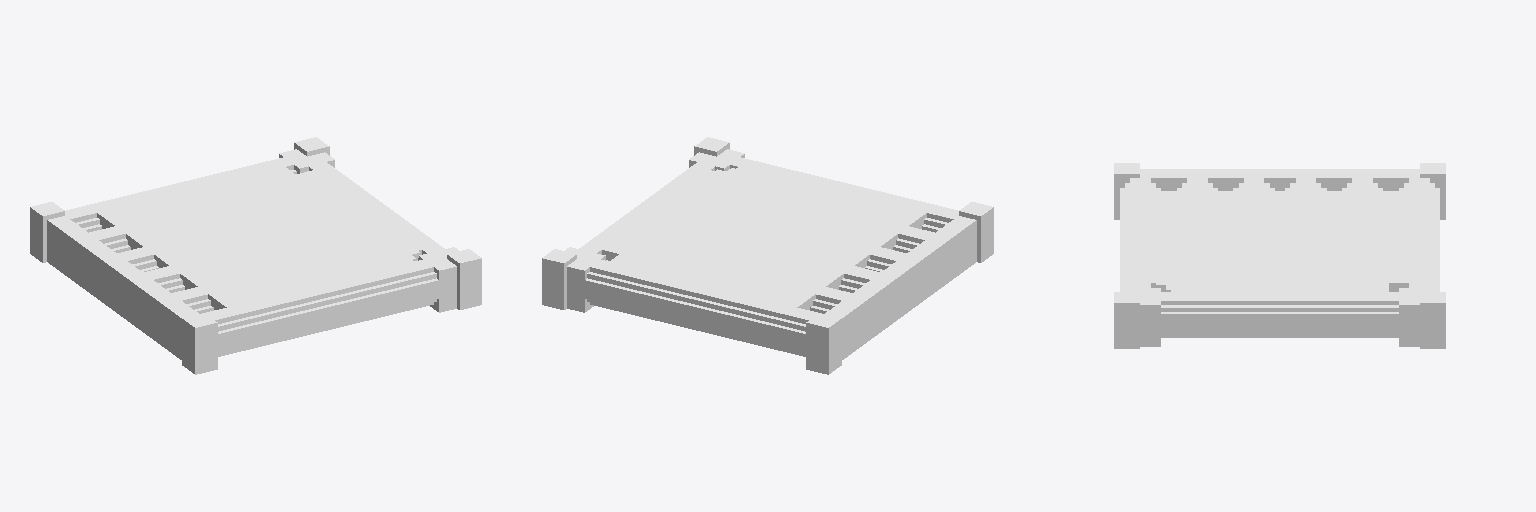
Rendered from ConveyorT2.obj.
The picture shows the model from 3 angles: view 1: azimuth 30°, elevation 25°; view 2: azimuth 150°, elevation 25°; view 3: azimuth 270°, elevation 25°; orthographic projection.
Bounding box in the file's own units: 64 × 10 × 64.